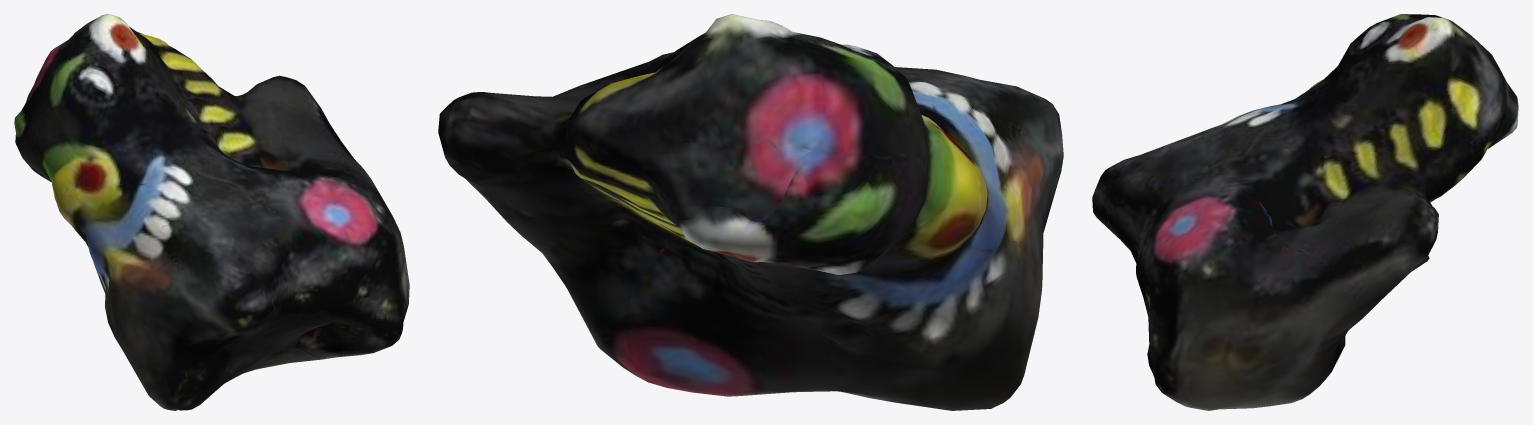
File: hall.glb
The picture shows the model from 3 angles, left to right: view 1: azimuth 30°, elevation 25°; view 2: azimuth 150°, elevation 25°; view 3: azimuth 270°, elevation 25°; orthographic projection. The views are drawn at different scales.
Bounding box in the file's own units: 0.2315 × 0.2279 × 0.2701.
Materials: 1 (1 with a texture image).
